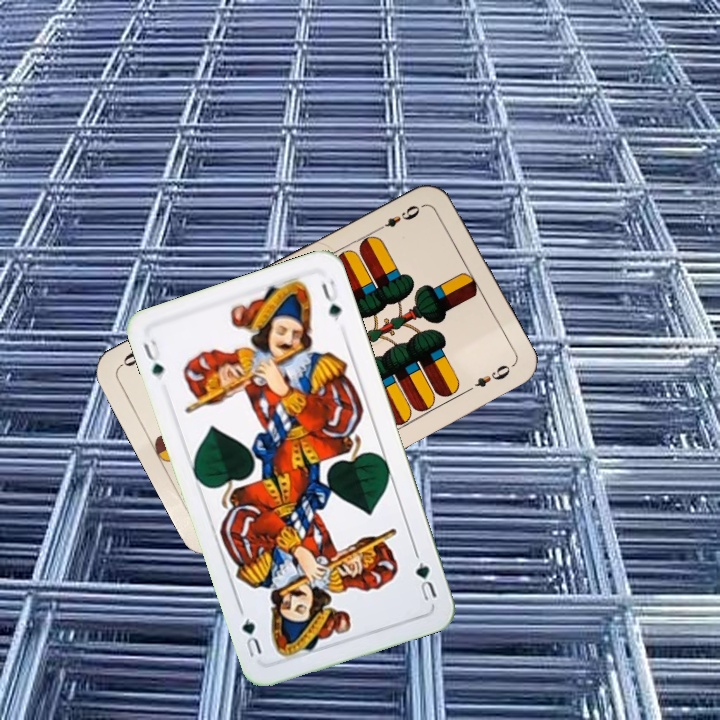E9: (373, 200, 427, 234)
GU: (411, 548, 440, 604), (139, 335, 167, 383)
